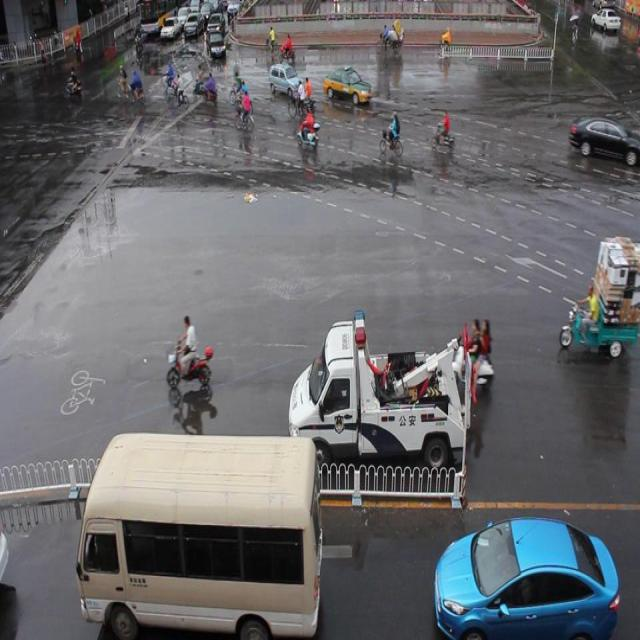bus: (287, 309, 477, 476)
car: (433, 515, 617, 640), (567, 113, 640, 164), (322, 66, 372, 105), (269, 62, 304, 100), (206, 30, 227, 62)
truck: (79, 428, 322, 640)
